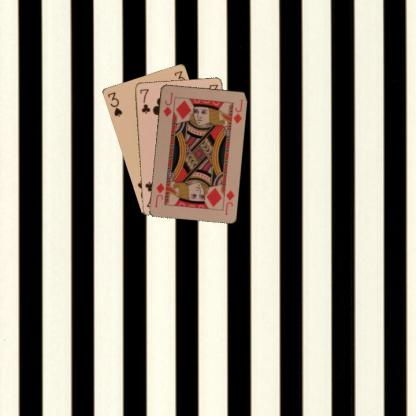3s: (105, 89, 123, 118)
7c: (137, 86, 151, 115)
Jd: (160, 89, 174, 118), (222, 187, 235, 216)
